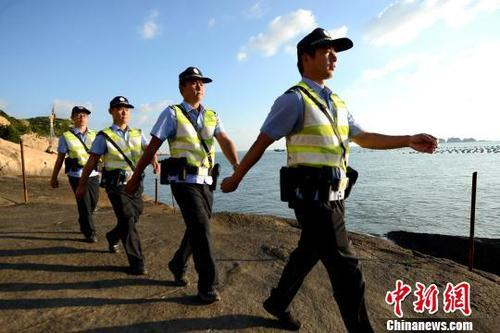up: (217, 25, 440, 333), (120, 62, 243, 306), (71, 92, 163, 278), (48, 103, 107, 246)
